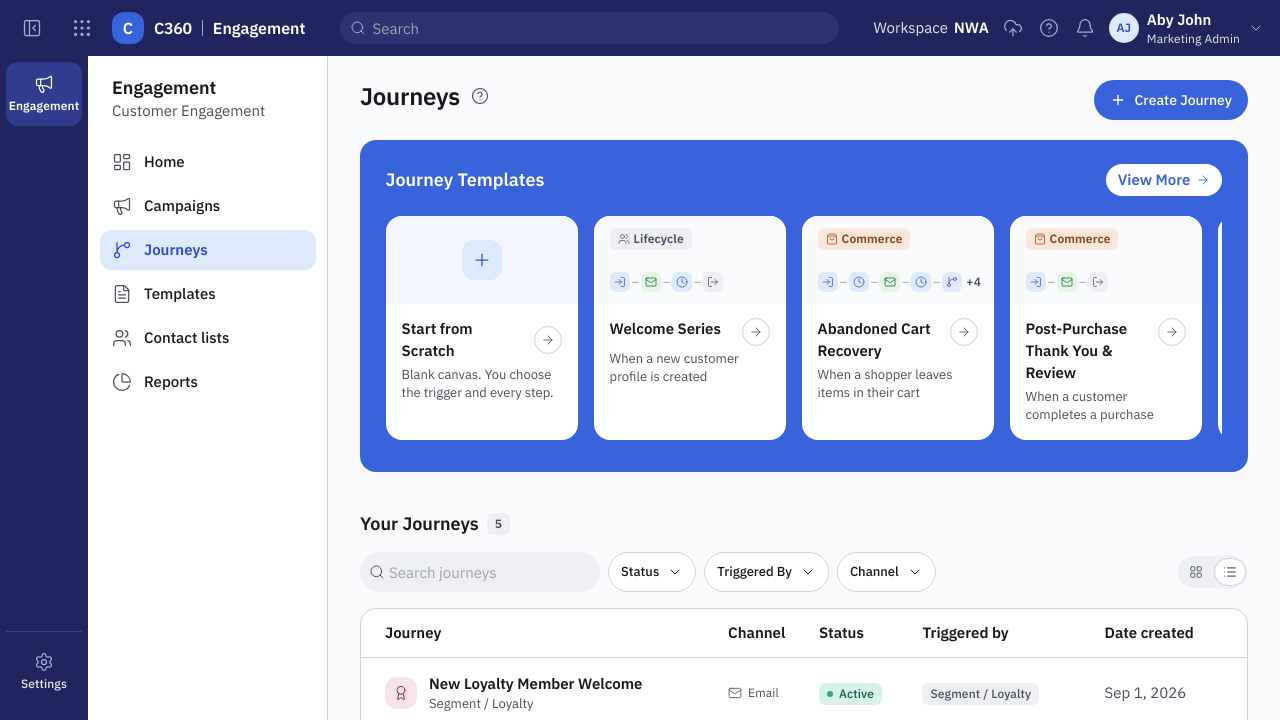
it: a starter's preview lists the steps that need setup
The width and height of the screenshot is (1280, 720).
Click the button with aria-label "Abandoned Cart Recovery, C360 Starter".
click(898, 328)  # box [802,216,994,440]
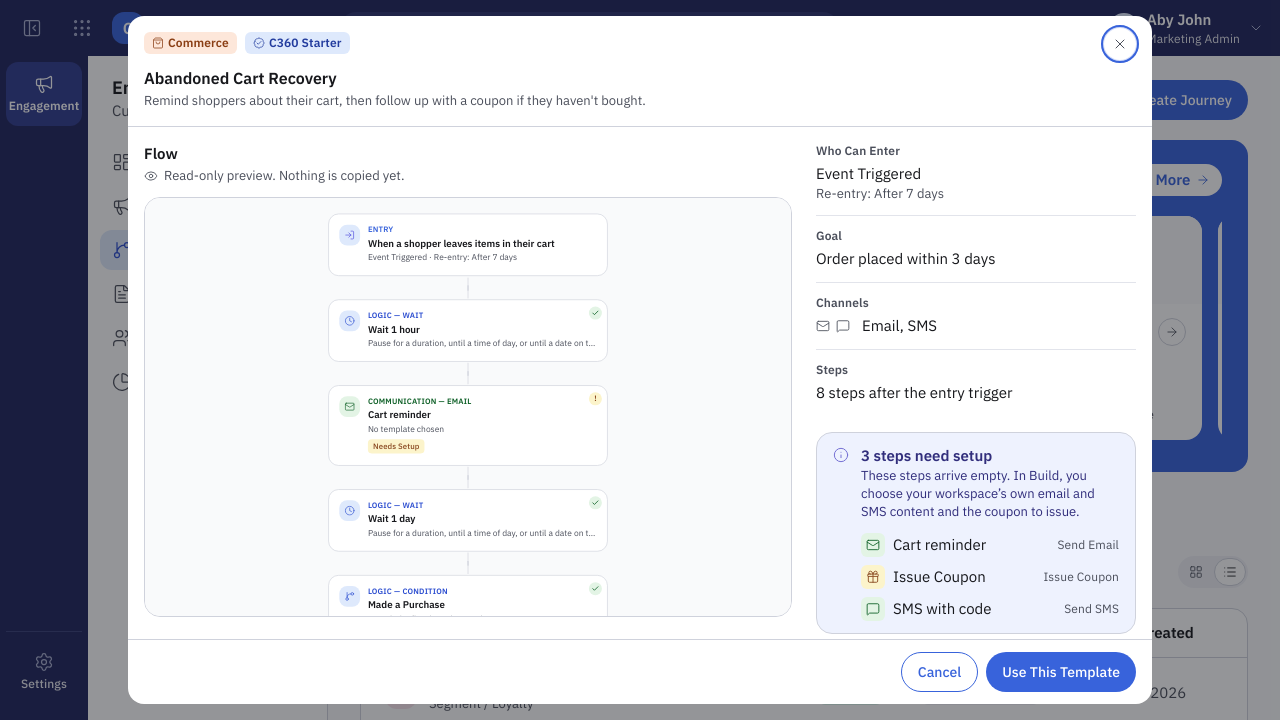
Check: the text "C360 Starter" is shown, box [245,32,350,54]
Check: the text "Read-only preview. Nothing is copied yet." is shown, box [144,167,404,184]
Check: the text "Order placed within 3 days" is shown, box [816,249,996,268]
